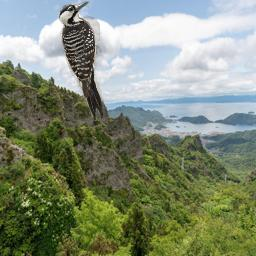Woodpecker: (59, 1, 105, 121)
